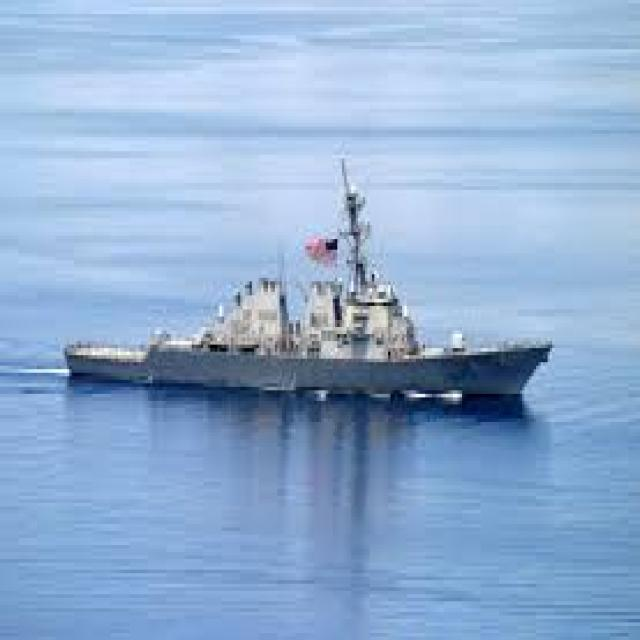navalvessels: (62, 142, 555, 415)
